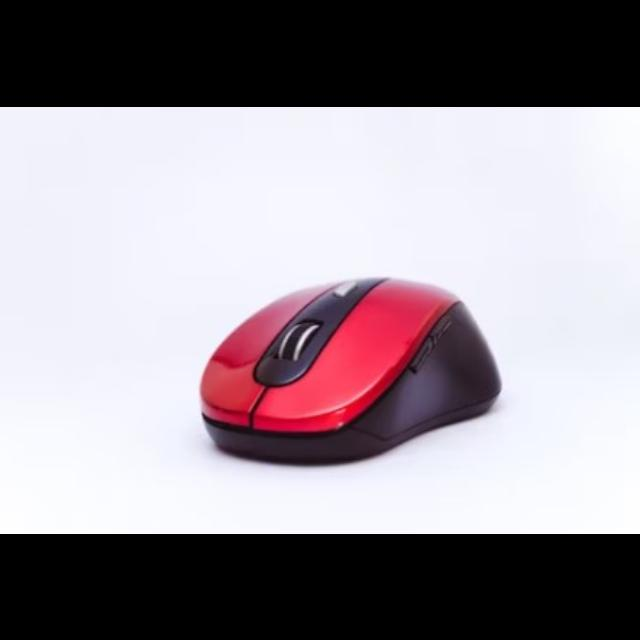Computer-Mouse: (198, 275, 502, 467)
